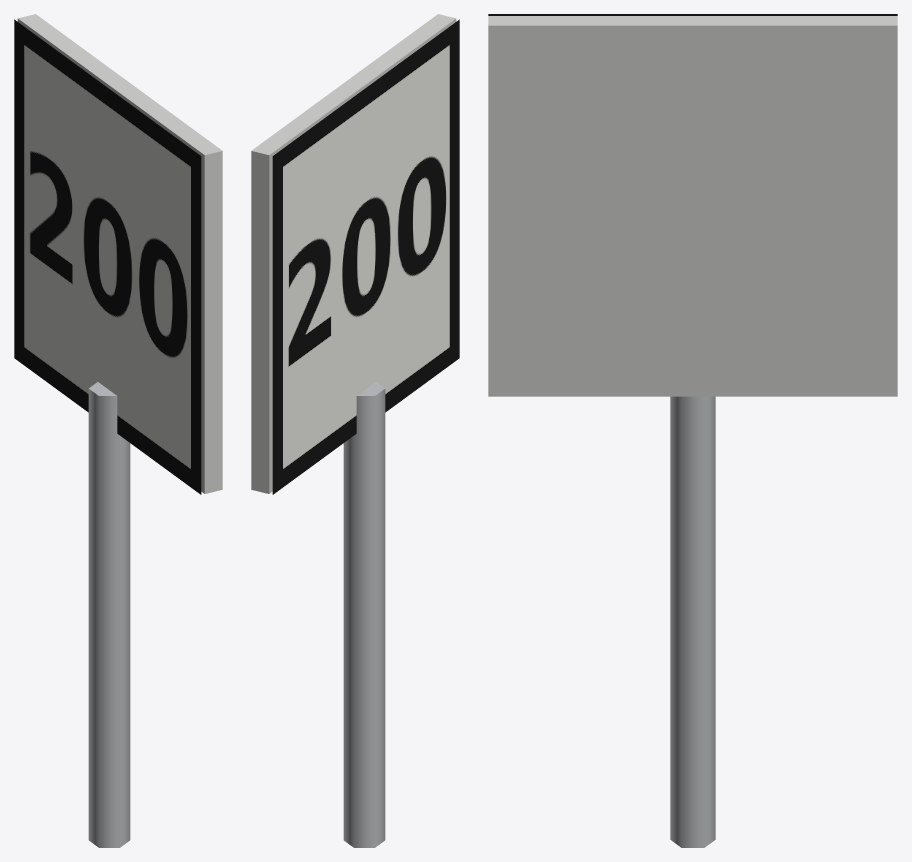
Rendered from SM_DistanceBoard_200.fbx.
The picture shows the model from 3 angles, left to right: view 1: azimuth 30°, elevation 25°; view 2: azimuth 150°, elevation 25°; view 3: azimuth 270°, elevation 25°; orthographic projection. The views are drawn at different scales.
Visible parts, largest first — view 1: SM_DistanceBoard_200; view 2: SM_DistanceBoard_200; view 3: SM_DistanceBoard_200.
Part boxes in pixels (box(x1,y1,x2,y2)): SM_DistanceBoard_200: box(14, 14, 222, 847); SM_DistanceBoard_200: box(251, 14, 459, 847); SM_DistanceBoard_200: box(488, 14, 897, 847).
Bounding box in the file's own units: 9.83 × 200 × 90.
